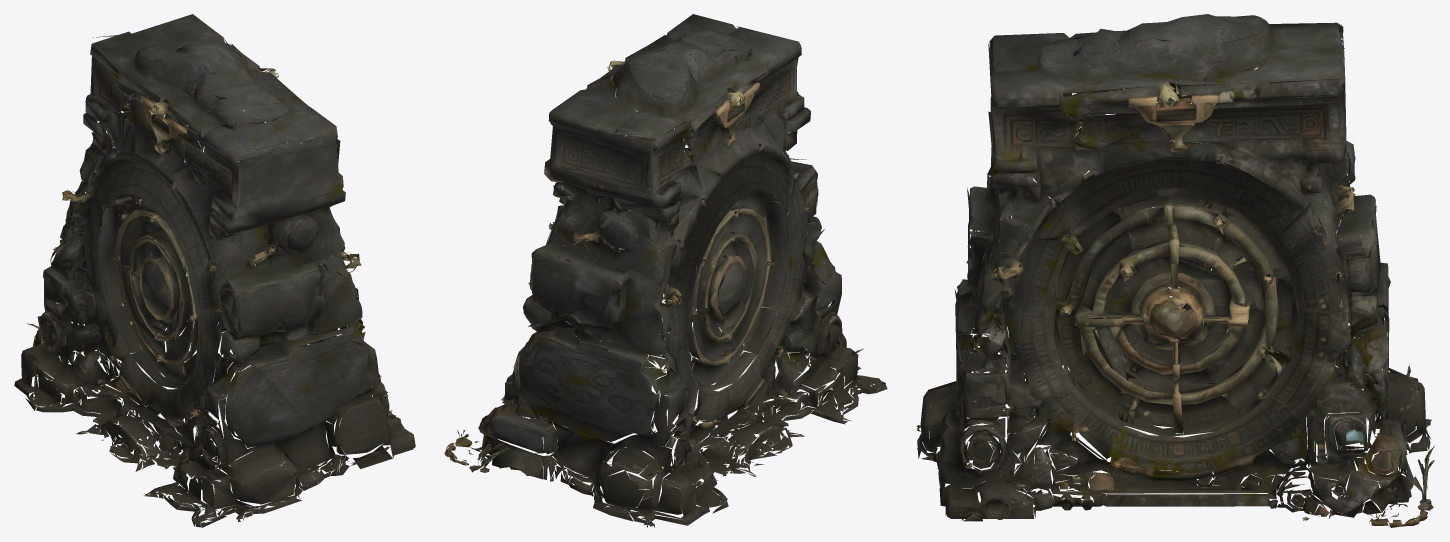
The model's file is ch1_first_sealed_portal_LOD1.glb.
The picture shows the model from 3 angles, left to right: view 1: azimuth 30°, elevation 25°; view 2: azimuth 150°, elevation 25°; view 3: azimuth 270°, elevation 25°; orthographic projection. The views are drawn at different scales.
Parts seen in each view (by area): view 1: tripo_node_30cc7031-aaaa-48c9-b1ef-075203d77a03; view 2: tripo_node_30cc7031-aaaa-48c9-b1ef-075203d77a03; view 3: tripo_node_30cc7031-aaaa-48c9-b1ef-075203d77a03.
Part boxes in pixels (x1=…): tripo_node_30cc7031-aaaa-48c9-b1ef-075203d77a03: x1=14, y1=14, x2=415, y2=527; tripo_node_30cc7031-aaaa-48c9-b1ef-075203d77a03: x1=444, y1=14, x2=887, y2=527; tripo_node_30cc7031-aaaa-48c9-b1ef-075203d77a03: x1=916, y1=14, x2=1434, y2=527.
Bounding box in the file's own units: 0.6752 × 0.9713 × 0.9977.
Materials: 1 (1 with a texture image).
